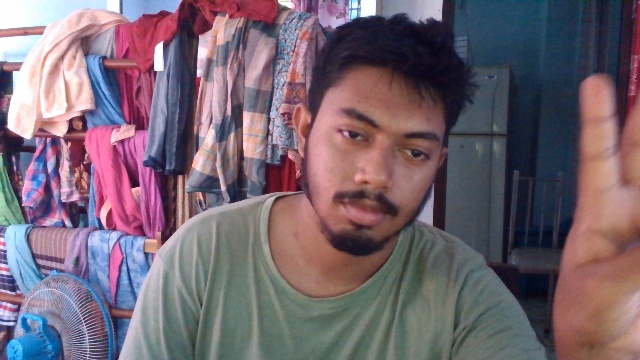thanks: (541, 70, 640, 360)
